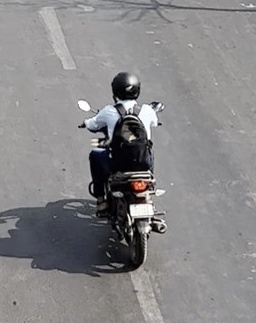BikeWithRider: (73, 60, 177, 271)
Helmet: (108, 67, 142, 105)
